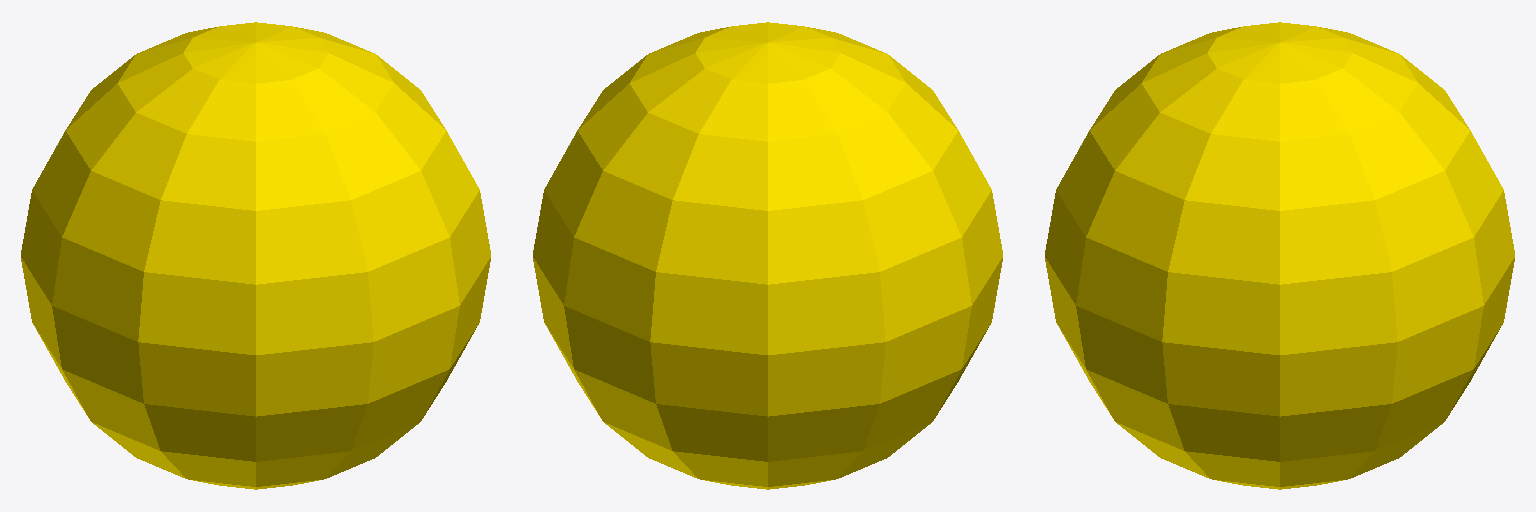
The model's file is PacMan_Closed.obj.
3 views of the same model, side by side, from view 1: azimuth 30°, elevation 25°; view 2: azimuth 150°, elevation 25°; view 3: azimuth 270°, elevation 25° (orthographic).
Visible parts, largest first — view 1: polySurface3 polySurface1; view 2: polySurface3 polySurface1; view 3: polySurface3 polySurface1.
Boxes of the visible parts, x1,y1,x2,y2 form: polySurface3 polySurface1: [21, 22, 490, 489]; polySurface3 polySurface1: [533, 22, 1002, 489]; polySurface3 polySurface1: [1045, 22, 1514, 489].
Bounding box in the file's own units: 14.56 × 14.56 × 14.56.